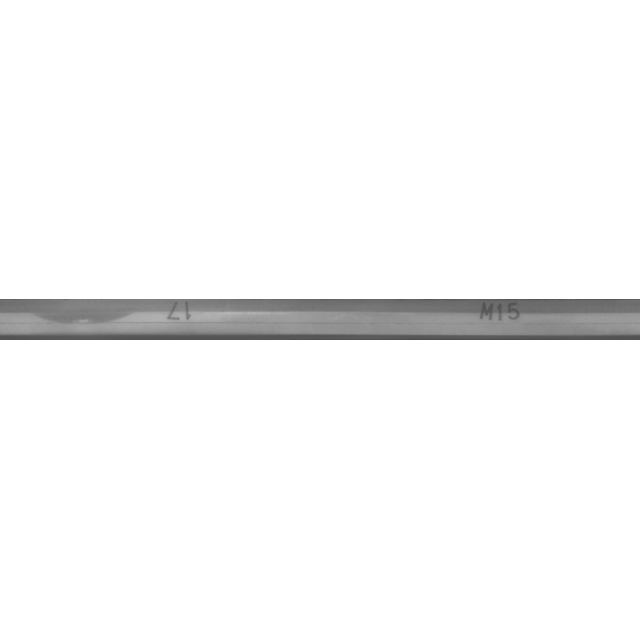mohao: (404, 270, 604, 370)
xuehao: (84, 270, 284, 370)
